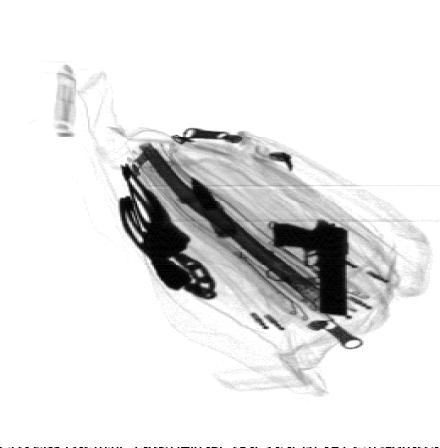Bullet: (190, 177, 239, 237)
Gun: (270, 219, 351, 315)
HandCuffs: (115, 159, 220, 302)
